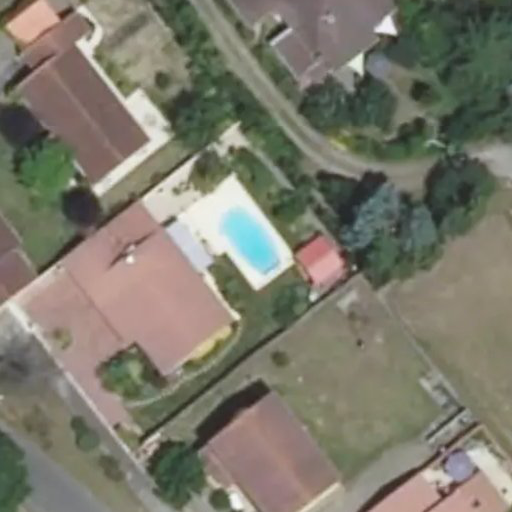pool: (220, 224, 291, 258)
